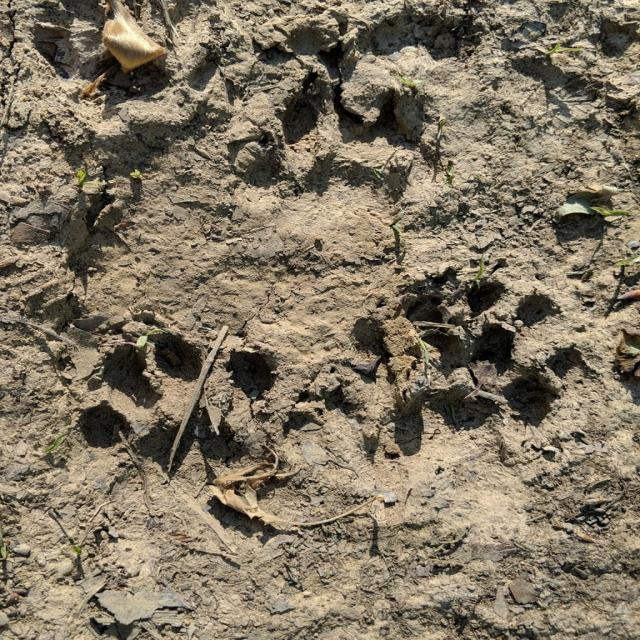mustelid: (349, 325, 561, 484), (82, 336, 282, 480)
